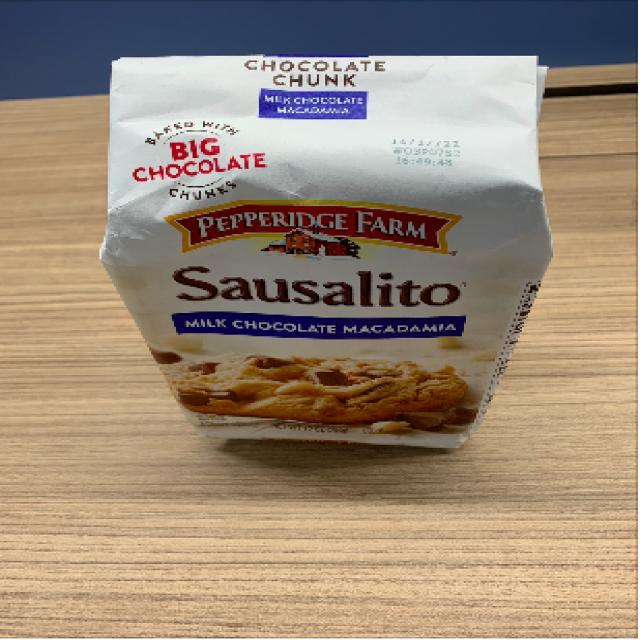object_name: (118, 62, 537, 441)
